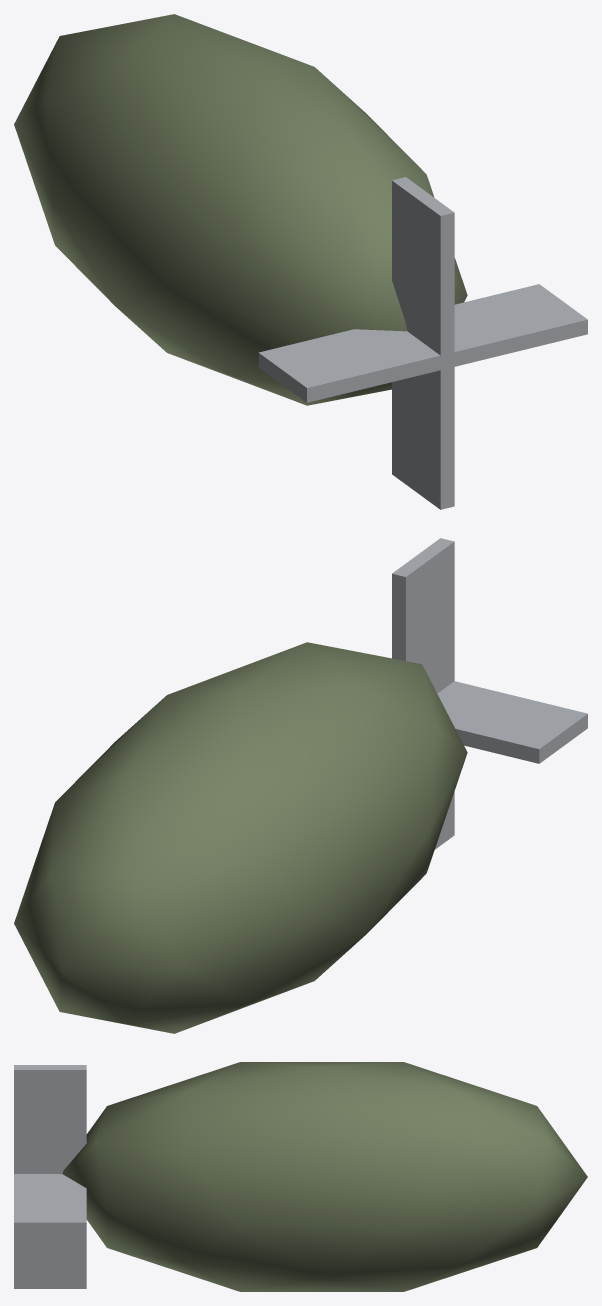
Rendered from bomb.gltf.
3 renders of one model, top to bottom at view 1: azimuth 30°, elevation 25°; view 2: azimuth 150°, elevation 25°; view 3: azimuth 270°, elevation 25°, orthographic. The views are drawn at different scales.
Parts seen in each view (by area): view 1: bomb; view 2: bomb; view 3: bomb.
Boxes of the visible parts, <box> form: bomb: <box>14,14,587,509</box>; bomb: <box>14,538,587,1033</box>; bomb: <box>14,1062,587,1291</box>.
Bounding box in the file's own units: 0.4 × 0.4 × 0.95.
